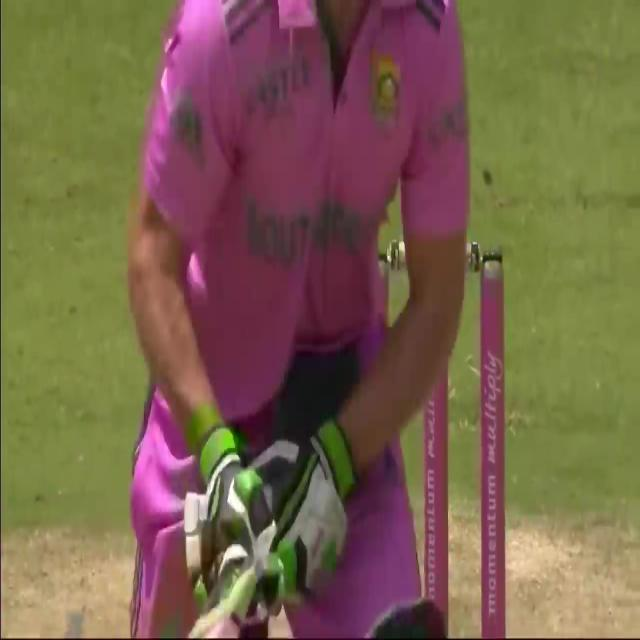Ball: (118, 2, 519, 638)
